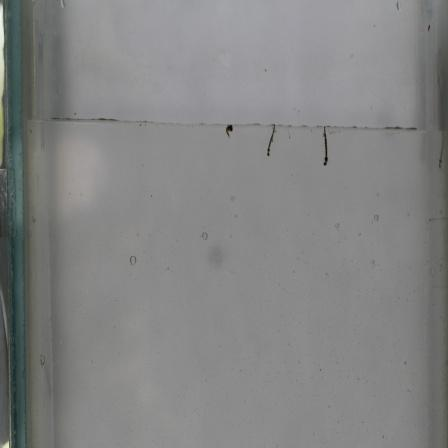Jentik-Nyamuk: (317, 124, 332, 172), (264, 122, 281, 162), (223, 119, 238, 142)
